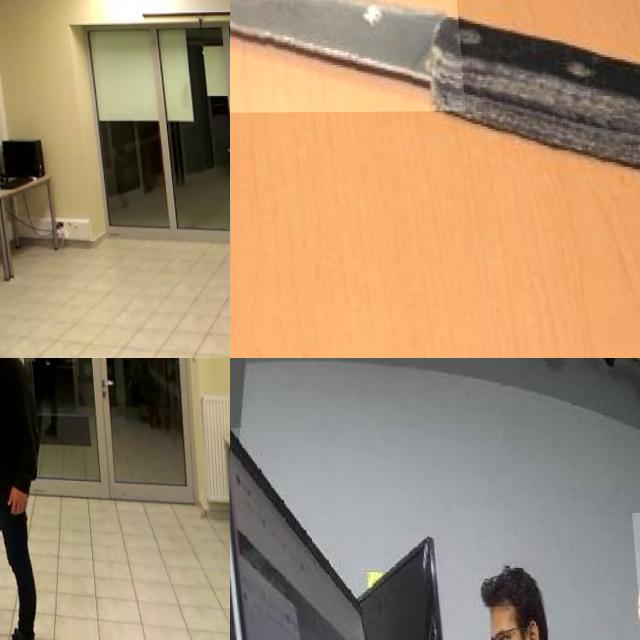-: (230, 0, 459, 113), (628, 513, 640, 615)
gun-knife-thesis - v11 Yolov5 augmented: (0, 399, 18, 429)
